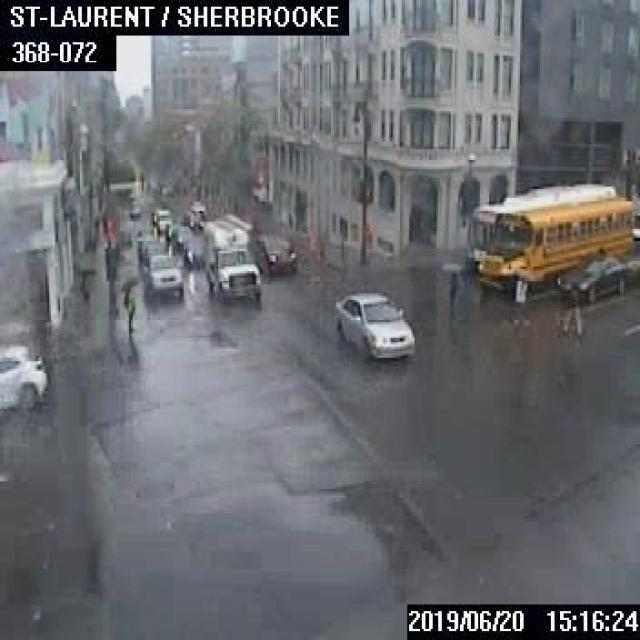bus: (477, 193, 631, 292), (466, 182, 614, 268)
pedestrian: (115, 275, 136, 329), (560, 285, 582, 336), (511, 274, 529, 329), (448, 268, 458, 312), (78, 267, 91, 300)
vehicle: (203, 213, 261, 301), (334, 291, 412, 356), (0, 337, 45, 411), (553, 252, 623, 299), (142, 253, 182, 300), (252, 230, 294, 274), (183, 233, 203, 266), (622, 245, 638, 282), (173, 225, 191, 248), (153, 207, 170, 229), (164, 220, 178, 238)
